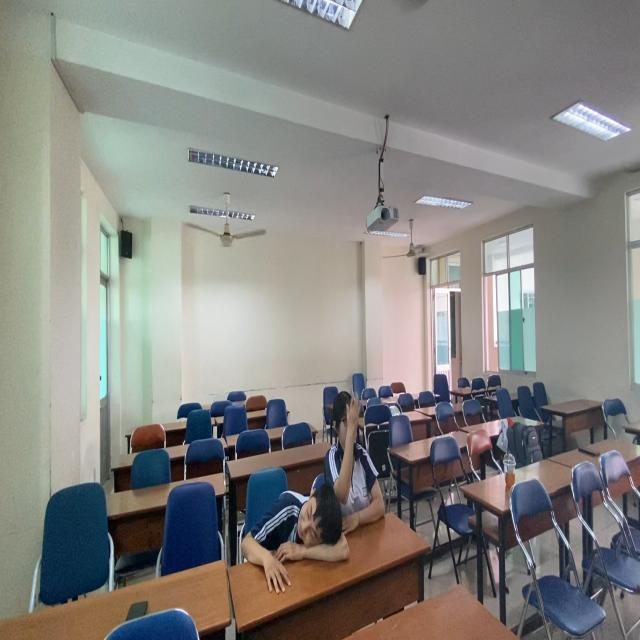raise_hand: (331, 387, 391, 543)
sleep: (236, 476, 354, 596)
